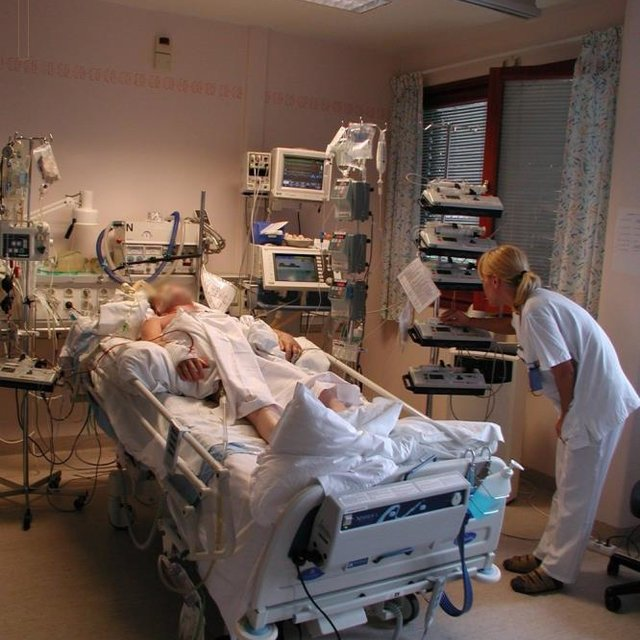bedrail: (85, 346, 218, 553)
bedside_monitor: (261, 246, 331, 294), (274, 148, 330, 202)
curtain: (551, 27, 623, 319), (384, 58, 425, 338)
dispenser: (468, 461, 524, 521)
foot_board: (245, 456, 512, 630)
hospital_bed: (67, 281, 513, 640)
iv_pole: (1, 130, 54, 485), (420, 114, 483, 182)
patient: (142, 283, 364, 458)
sequential_compression: (312, 472, 474, 567)
staff: (478, 245, 640, 594)
syringe_pump: (407, 361, 492, 399), (413, 261, 498, 299), (422, 224, 507, 262), (422, 179, 507, 217), (412, 316, 497, 353)
